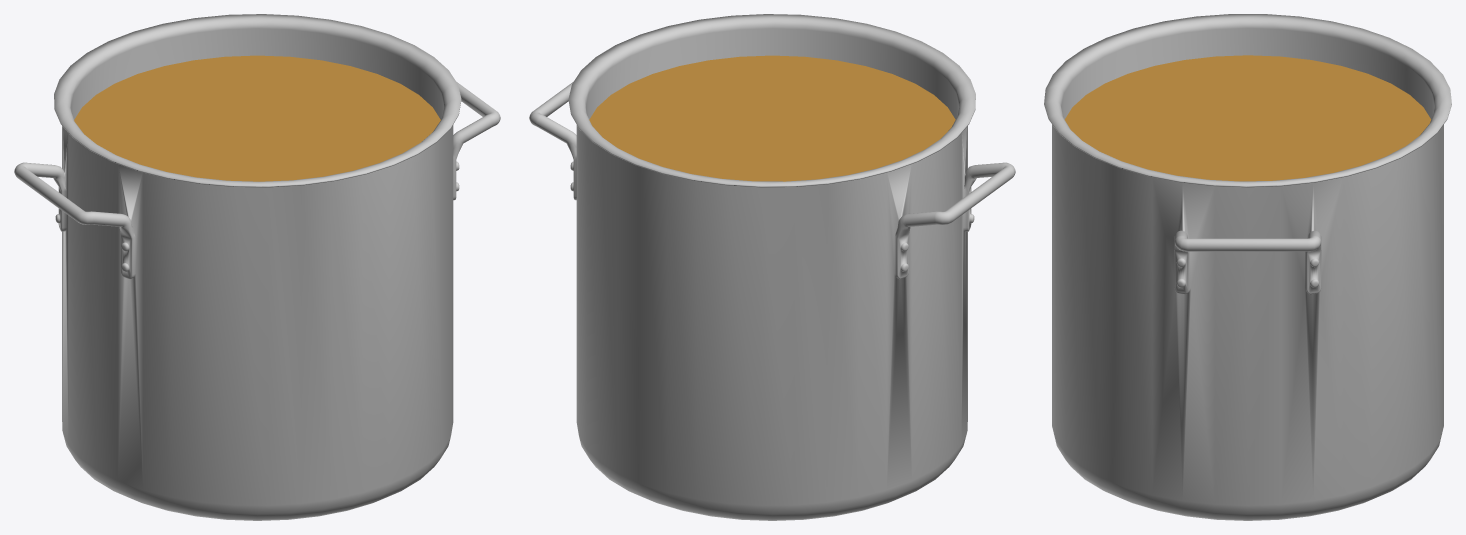
Rendered from POT_broth_v1.glb.
3 renders of one model, left to right at view 1: azimuth 30°, elevation 25°; view 2: azimuth 150°, elevation 25°; view 3: azimuth 270°, elevation 25°, orthographic.
Visible parts, largest first — view 1: Large pot 202112-3, BrothSurface; view 2: Large pot 202112-3, BrothSurface; view 3: Large pot 202112-3, BrothSurface.
Boxes of the visible parts, x1,y1,x2,y2 form: Large pot 202112-3: [14, 14, 500, 520]; BrothSurface: [74, 55, 440, 181]; Large pot 202112-3: [529, 14, 1015, 520]; BrothSurface: [589, 55, 955, 181]; Large pot 202112-3: [1044, 14, 1451, 520]; BrothSurface: [1064, 55, 1431, 181].
Bounding box in the file's own units: 0.5993 × 0.4694 × 0.5.
